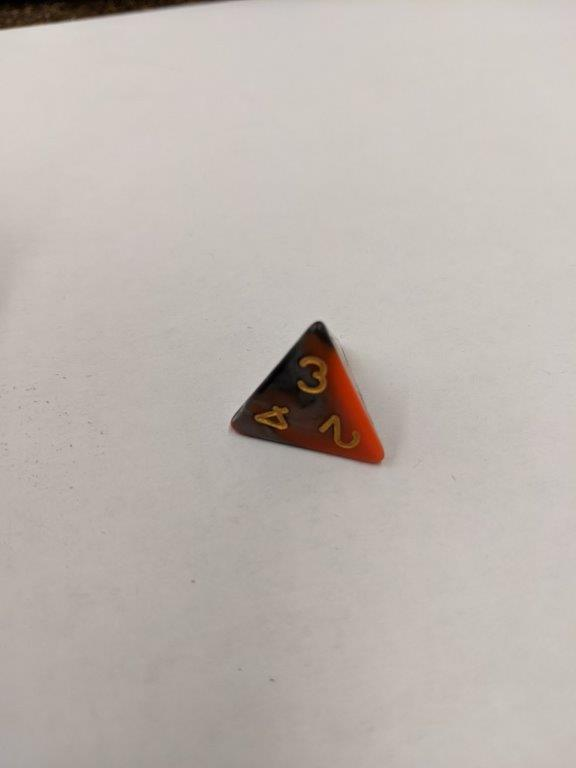d4-3: (227, 315, 390, 472)
